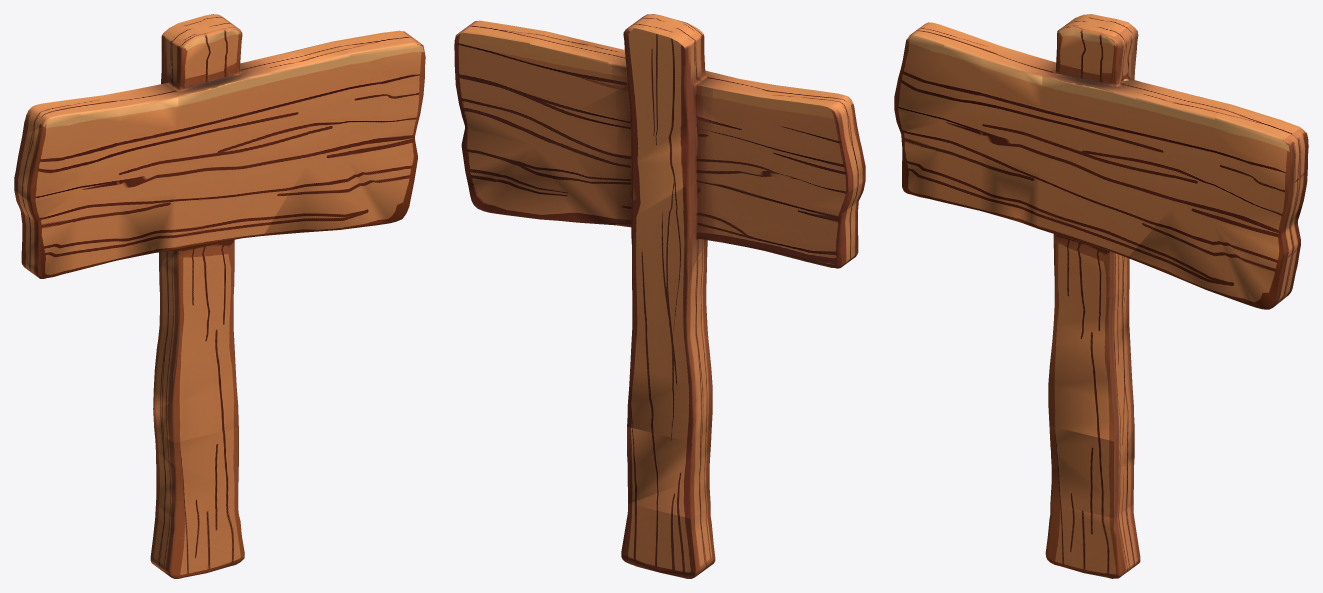
Rendered from wood_sign.glb.
3 renders of one model, left to right at view 1: azimuth 30°, elevation 25°; view 2: azimuth 150°, elevation 25°; view 3: azimuth 330°, elevation 25°, orthographic.
Bounding box in the file's own units: 1.46 × 1.91 × 0.1604.
1 material, 1 textured.
